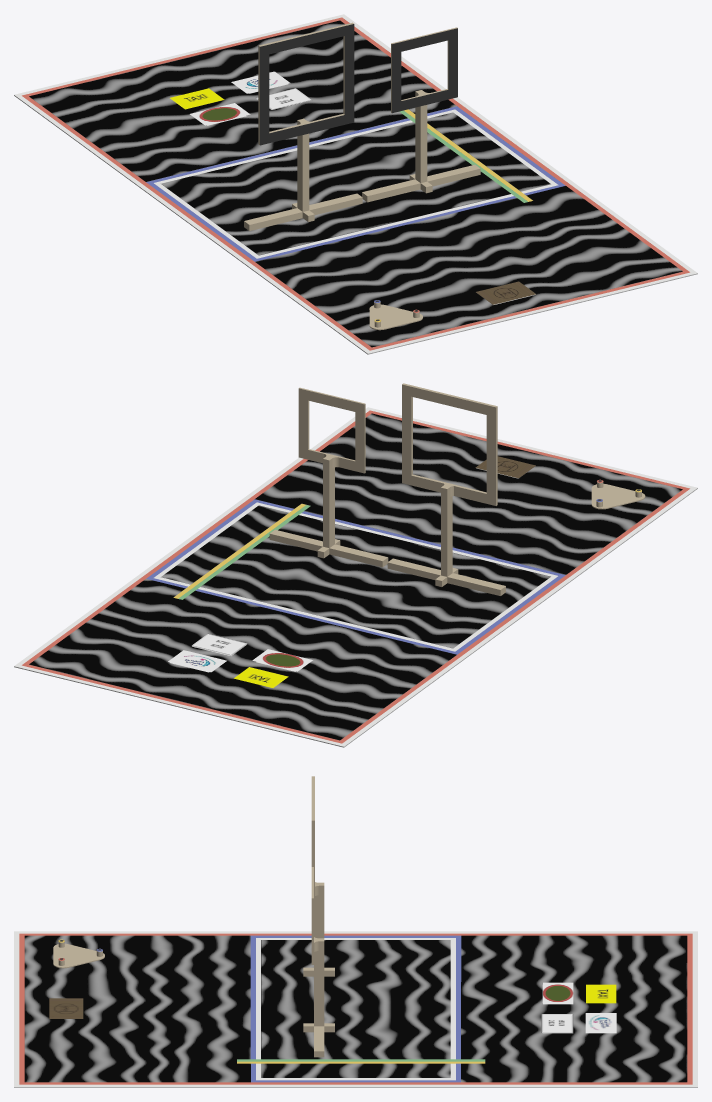
The model's file is test_terrain.dae.
3 renders of one model, top to bottom at view 1: azimuth 30°, elevation 25°; view 2: azimuth 150°, elevation 25°; view 3: azimuth 270°, elevation 25°, orthographic. The views are drawn at different scales.
Visible parts, largest first — view 1: epreuve_1, aire_decollage_atterrisage, aire_ovale, aire_taxi, aire_jeux, leurre; view 2: epreuve_1, aire_ovale, leurre, aire_jeux, aire_taxi, aire_decollage_atterrisage; view 3: epreuve_1, aire_decollage_atterrisage, aire_ovale, leurre, aire_jeux, aire_taxi.
Boxes of the visible parts, box(x1,y1,x2,y2) form: epreuve_1: box(14, 14, 697, 354); aire_decollage_atterrisage: box(476, 281, 535, 304); aire_ovale: box(190, 103, 250, 125); aire_taxi: box(170, 88, 224, 109); aire_jeux: box(256, 88, 311, 109); leurre: box(231, 71, 290, 93); epreuve_1: box(14, 383, 697, 747); aire_ovale: box(252, 649, 312, 671); leurre: box(168, 650, 226, 672); aire_jeux: box(191, 633, 247, 655); aire_taxi: box(234, 667, 288, 687); aire_decollage_atterrisage: box(475, 456, 535, 478); epreuve_1: box(14, 776, 697, 1087); aire_decollage_atterrisage: box(49, 998, 83, 1018); aire_ovale: box(543, 982, 573, 1004); leurre: box(585, 1013, 616, 1033); aire_jeux: box(541, 1014, 573, 1032); aire_taxi: box(586, 984, 616, 1003).
Bounding box in the file's own units: 3.5 × 6.5 × 1.86.
Materials: 16 (6 with a texture image).
